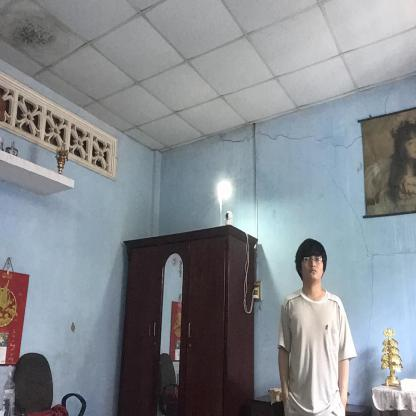person: (277, 238, 359, 416)
